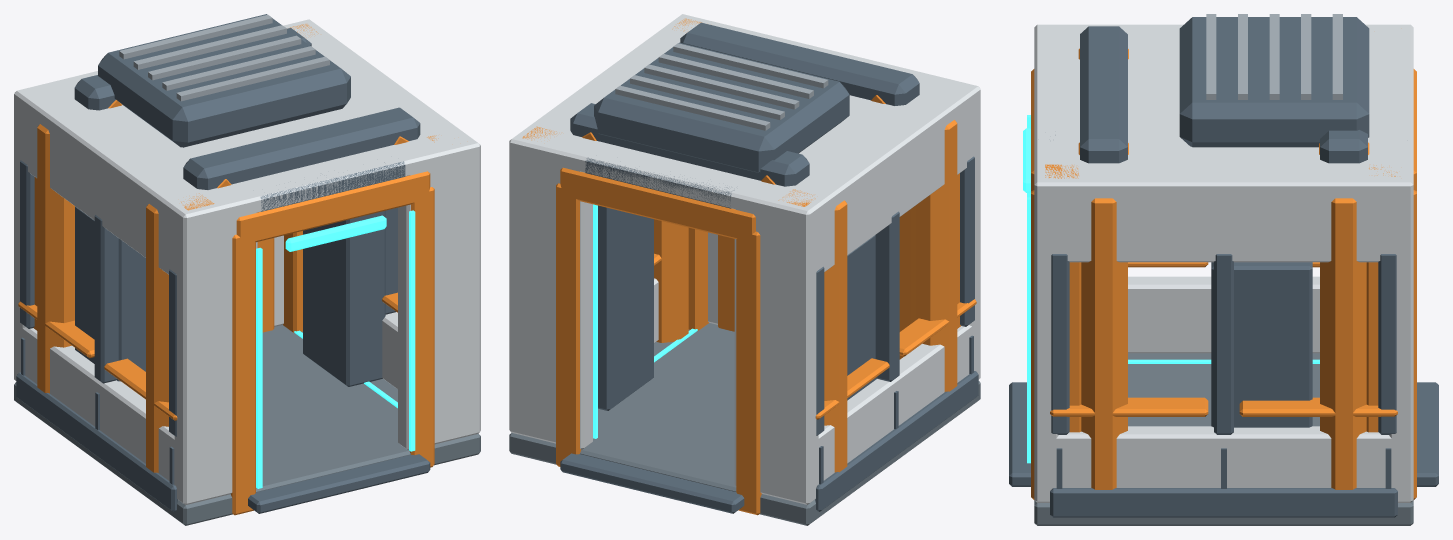
File: room-AirlockRoom.fbx
The picture shows the model from 3 angles, left to right: view 1: azimuth 30°, elevation 25°; view 2: azimuth 150°, elevation 25°; view 3: azimuth 270°, elevation 25°; orthographic projection. The views are drawn at different scales.
Parts seen in each view (by area): view 1: room-AirlockRoom_Roof.001, room-AirlockRoom_Deck.001, room-AirlockRoom_End panel.004, room-AirlockRoom_Roof service pod, room-AirlockRoom_End panel.005, room-AirlockRoom_Decon cabinet.003, room-AirlockRoom_Window head.002, room-AirlockRoom_Roof cross brace, room-AirlockRoom_Window sill.002, room-AirlockRoom_Armoured corner post.002, room-AirlockRoom_Port post.004, room-AirlockRoom_Decon cabinet.002 (+27 smaller); view 2: room-AirlockRoom_Roof.001, room-AirlockRoom_Deck.001, room-AirlockRoom_End panel.006, room-AirlockRoom_End panel.007, room-AirlockRoom_Roof service pod, room-AirlockRoom_Decon cabinet.003, room-AirlockRoom_Armoured corner post, room-AirlockRoom_Window sill.002, room-AirlockRoom_Window head.002, room-AirlockRoom_Port post.006, room-AirlockRoom_Roof cross brace, room-AirlockRoom_Port post.007 (+26 smaller); view 3: room-AirlockRoom_Roof.001, room-AirlockRoom_Roof service pod, room-AirlockRoom_Window head.003, room-AirlockRoom_Window sill.003, room-AirlockRoom_Decon cabinet.003, room-AirlockRoom_Armoured corner post.001, room-AirlockRoom_Armoured corner post.003, room-AirlockRoom_Lower armour band.001, room-AirlockRoom_Deck.001, room-AirlockRoom_Window sill.002, room-AirlockRoom_Roof cross brace, room-AirlockRoom_End panel.005 (+20 smaller).
Boxes of the visible parts, left/top/right/bottom form: room-AirlockRoom_Roof.001: left=14, top=19, right=480, bottom=229; room-AirlockRoom_Deck.001: left=14, top=325, right=480, bottom=525; room-AirlockRoom_End panel.004: left=174, top=211, right=257, bottom=504; room-AirlockRoom_Roof service pod: left=98, top=14, right=350, bottom=147; room-AirlockRoom_End panel.005: left=398, top=156, right=480, bottom=450; room-AirlockRoom_Decon cabinet.003: left=303, top=210, right=385, bottom=386; room-AirlockRoom_Window head.002: left=22, top=112, right=201, bottom=285; room-AirlockRoom_Roof cross brace: left=183, top=107, right=420, bottom=189; room-AirlockRoom_Window sill.002: left=14, top=322, right=201, bottom=503; room-AirlockRoom_Armoured corner post.002: left=37, top=124, right=74, bottom=393; room-AirlockRoom_Port post.004: left=231, top=234, right=255, bottom=515; room-AirlockRoom_Decon cabinet.002: left=75, top=206, right=145, bottom=381; room-AirlockRoom_Roof.001: left=509, top=14, right=980, bottom=226; room-AirlockRoom_Deck.001: left=509, top=323, right=980, bottom=525; room-AirlockRoom_End panel.006: left=734, top=209, right=818, bottom=504; room-AirlockRoom_End panel.007: left=509, top=153, right=592, bottom=449; room-AirlockRoom_Roof service pod: left=594, top=42, right=849, bottom=172; room-AirlockRoom_Decon cabinet.003: left=598, top=205, right=653, bottom=410; room-AirlockRoom_Armoured corner post: left=911, top=120, right=957, bottom=391; room-AirlockRoom_Window sill.002: left=791, top=320, right=980, bottom=504; room-AirlockRoom_Window head.002: left=792, top=105, right=974, bottom=282; room-AirlockRoom_Port post.006: left=736, top=231, right=761, bottom=515; room-AirlockRoom_Roof cross brace: left=680, top=22, right=919, bottom=105; room-AirlockRoom_Port post.007: left=556, top=183, right=580, bottom=466; room-AirlockRoom_Roof.001: left=1034, top=24, right=1413, bottom=198; room-AirlockRoom_Roof service pod: left=1179, top=17, right=1369, bottom=147; room-AirlockRoom_Window head.003: left=1034, top=197, right=1413, bottom=262; room-AirlockRoom_Window sill.003: left=1034, top=426, right=1413, bottom=501; room-AirlockRoom_Decon cabinet.003: left=1211, top=262, right=1312, bottom=427; room-AirlockRoom_Armoured corner post.001: left=1081, top=198, right=1127, bottom=489; room-AirlockRoom_Armoured corner post.003: left=1320, top=198, right=1366, bottom=489; room-AirlockRoom_Lower armour band.001: left=1050, top=488, right=1397, bottom=517; room-AirlockRoom_Deck.001: left=1034, top=353, right=1413, bottom=525; room-AirlockRoom_Window sill.002: left=1128, top=276, right=1319, bottom=353; room-AirlockRoom_Roof cross brace: left=1080, top=26, right=1127, bottom=163; room-AirlockRoom_End panel.005: left=1034, top=197, right=1058, bottom=502.
Bounding box in the file's own units: 310 × 343 × 340.
